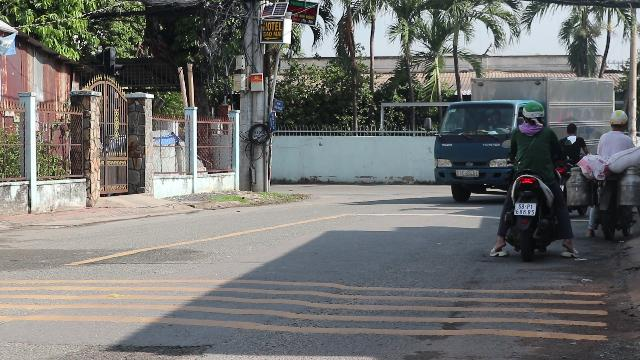helmet: (520, 100, 546, 124), (608, 109, 628, 130)
licenseplate: (514, 201, 536, 214)
motorcyclist: (493, 100, 573, 260), (589, 109, 639, 240)
